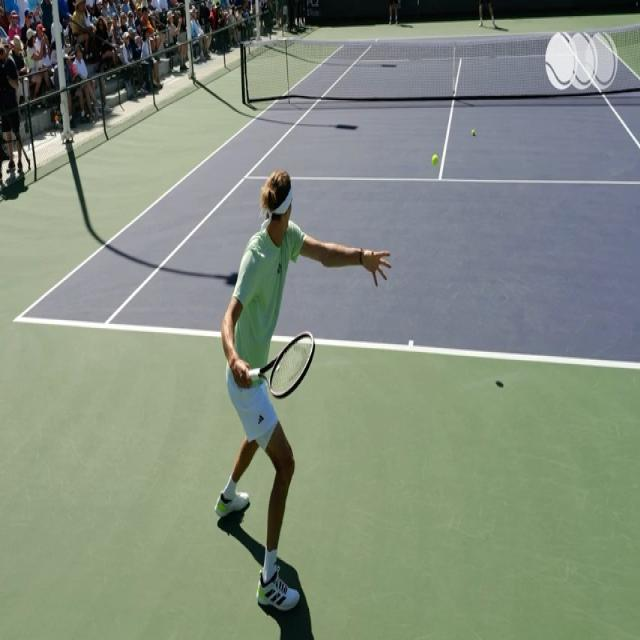forehand-ready: (213, 171, 382, 614)
